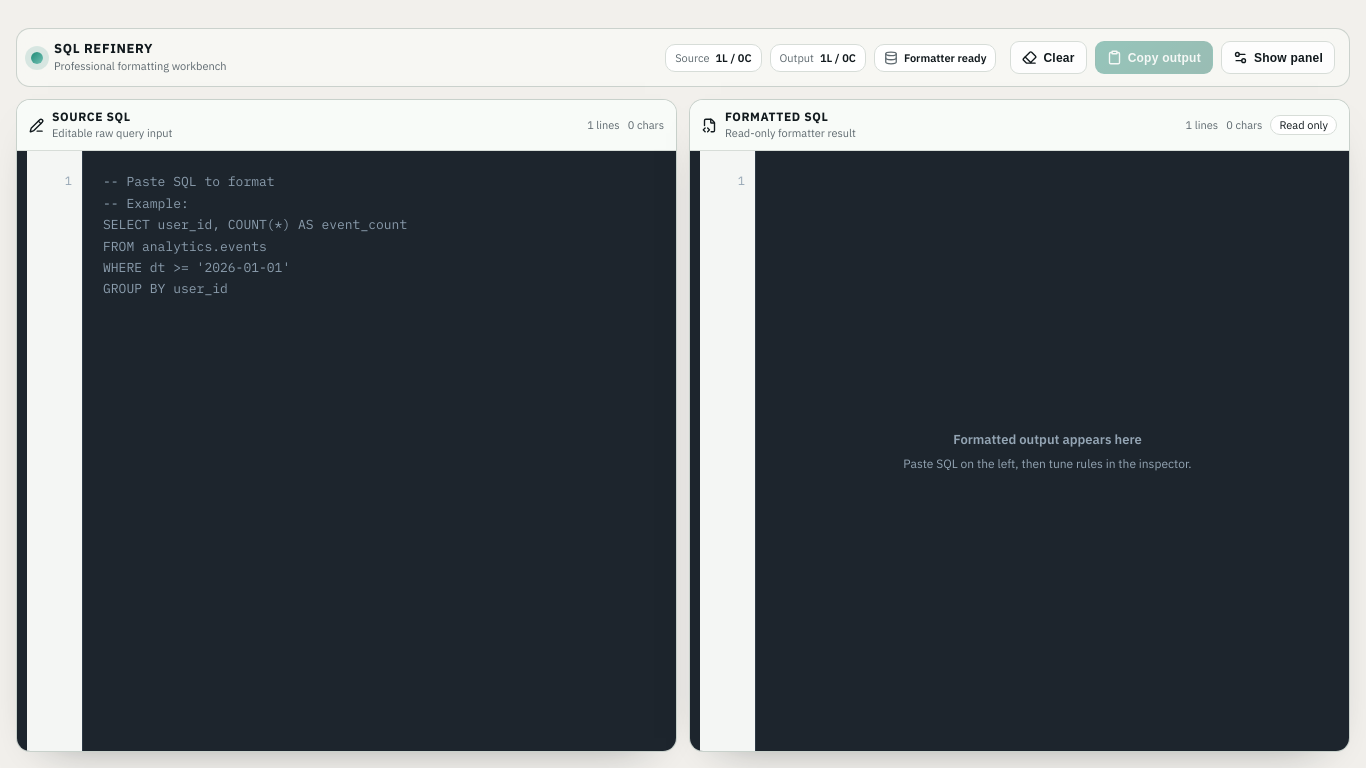
Scenario: App UI workbench › supports copy state and clear action
Replace the text in the text box named "Source SQL input" with "select a from t" at (374, 451), box [83, 151, 666, 751]
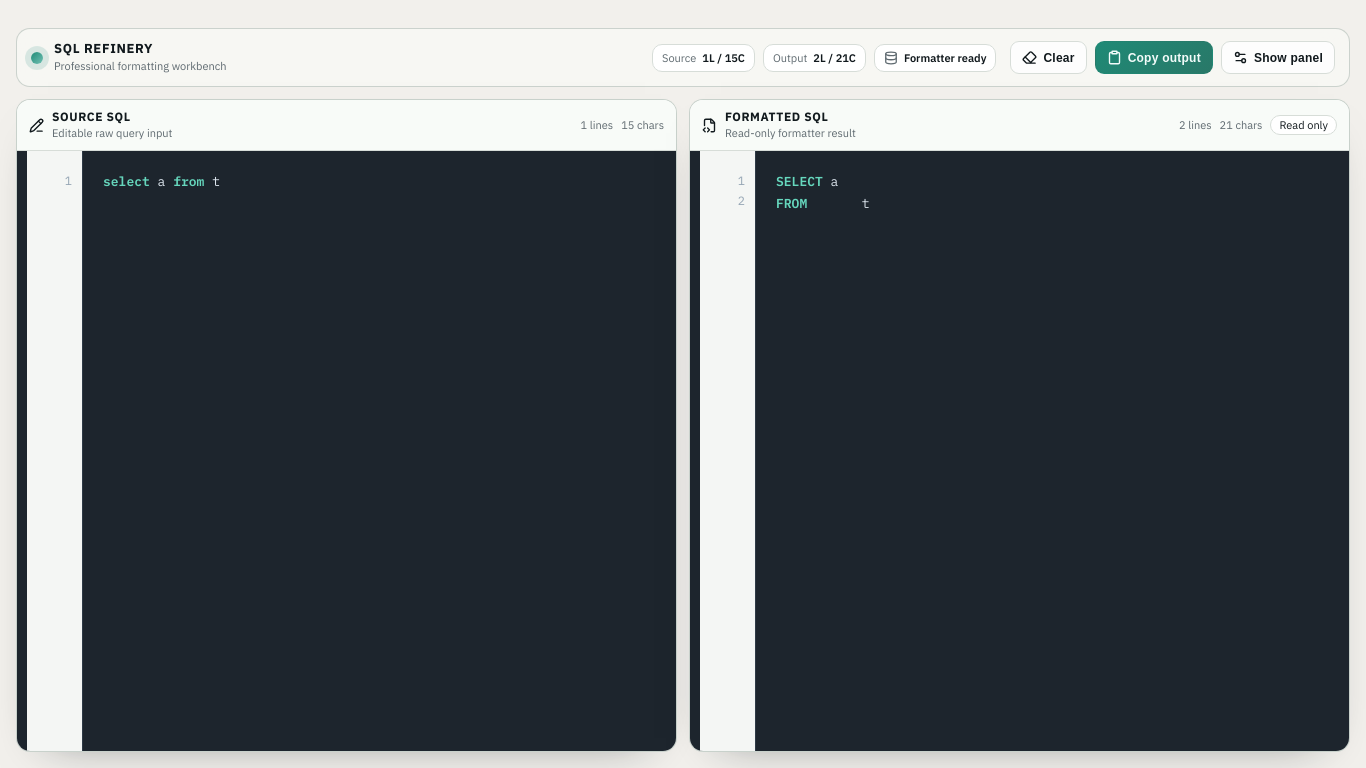
expect the button with aria-label "Copy formatted SQL" is enabled: met
Click the button with aria-label "Copy formatted SQL" at (1154, 58), box [1095, 41, 1213, 74]
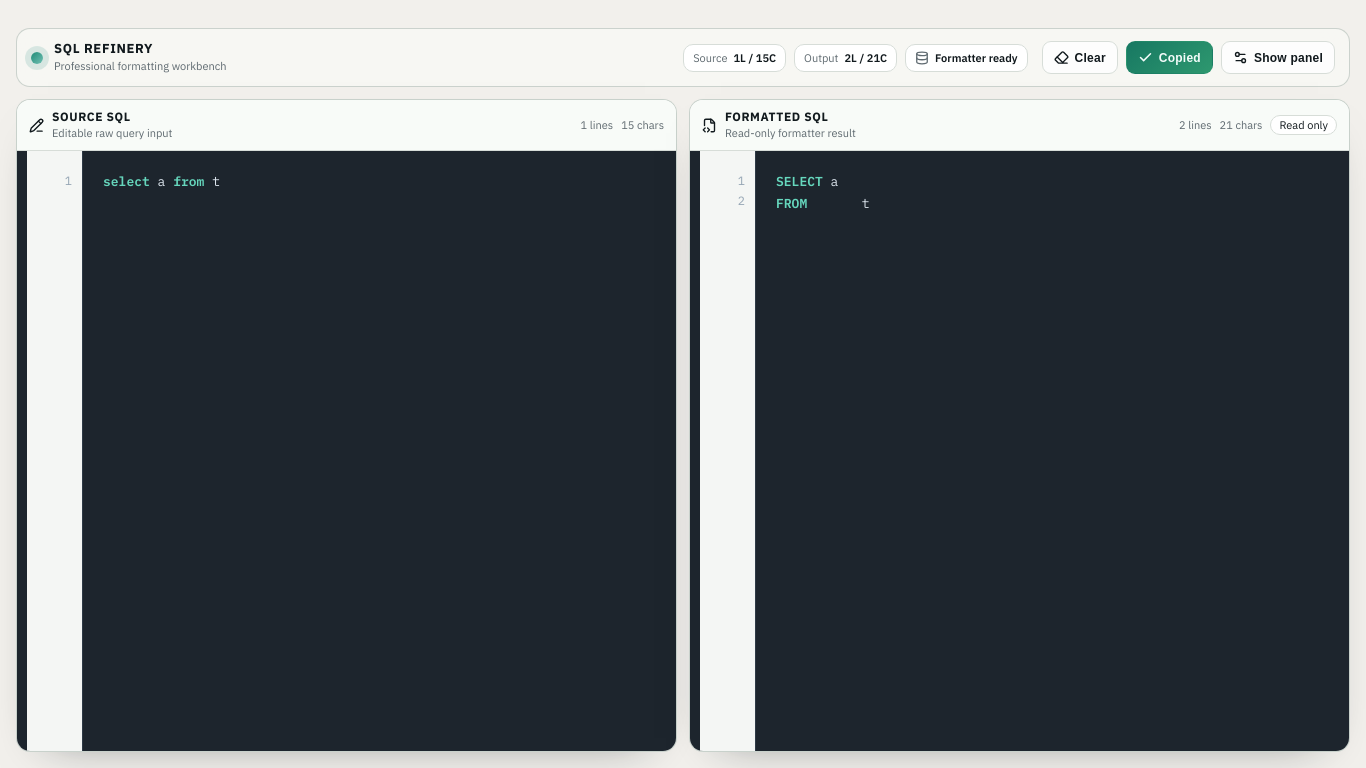
expect the button with aria-label "Copy formatted SQL" reads "Copied": met, box [1126, 41, 1213, 74]
Click the button "Clear" at (1080, 58), box [1042, 41, 1118, 74]
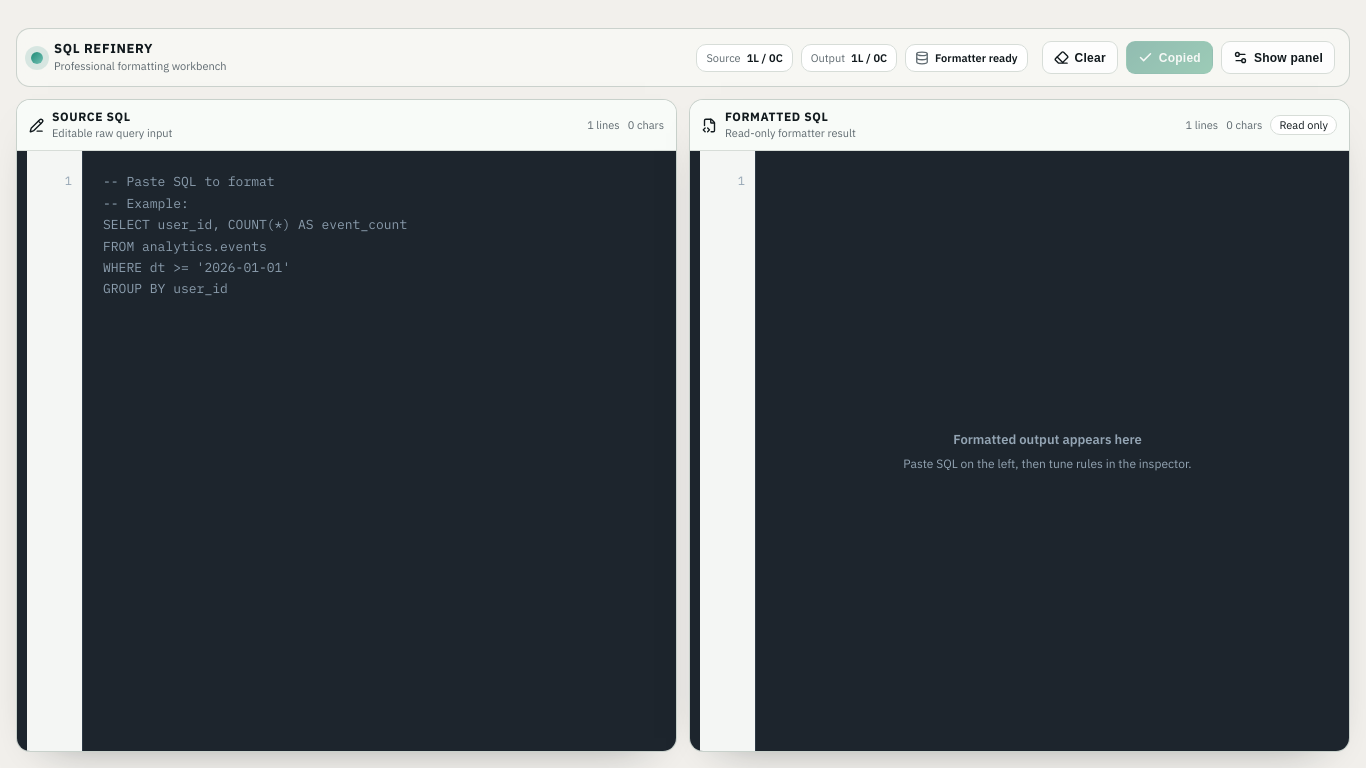
expect the text box named "Source SQL input" is empty: met, box [83, 151, 666, 751]
expect the text box named "Formatted SQL output" is empty: met, box [756, 151, 1339, 751]
expect the button with aria-label "Copy formatted SQL" is disabled: met, box [1126, 41, 1213, 74]
